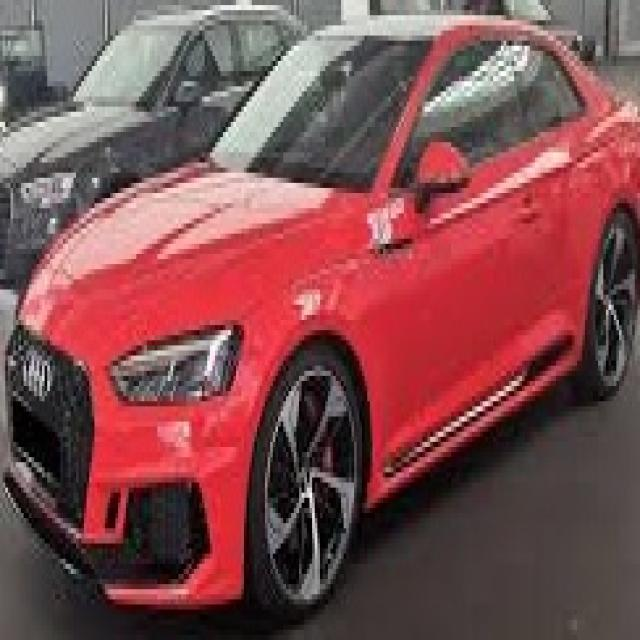red: (18, 16, 640, 604)
